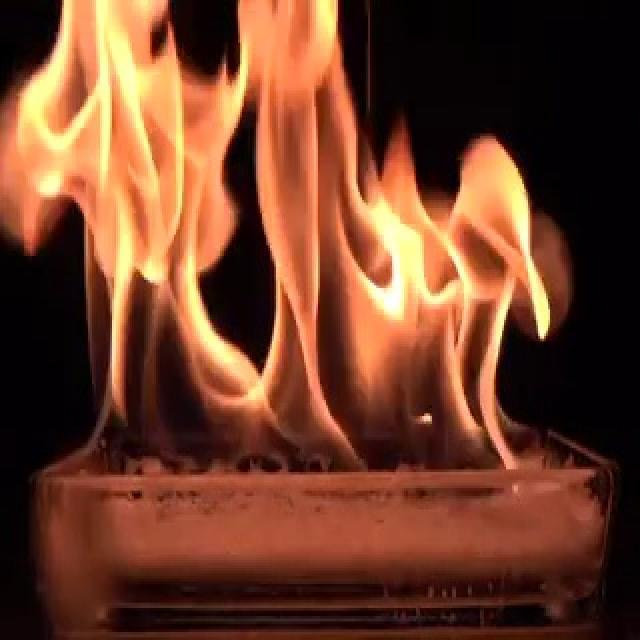Fire: (3, 2, 573, 472)
